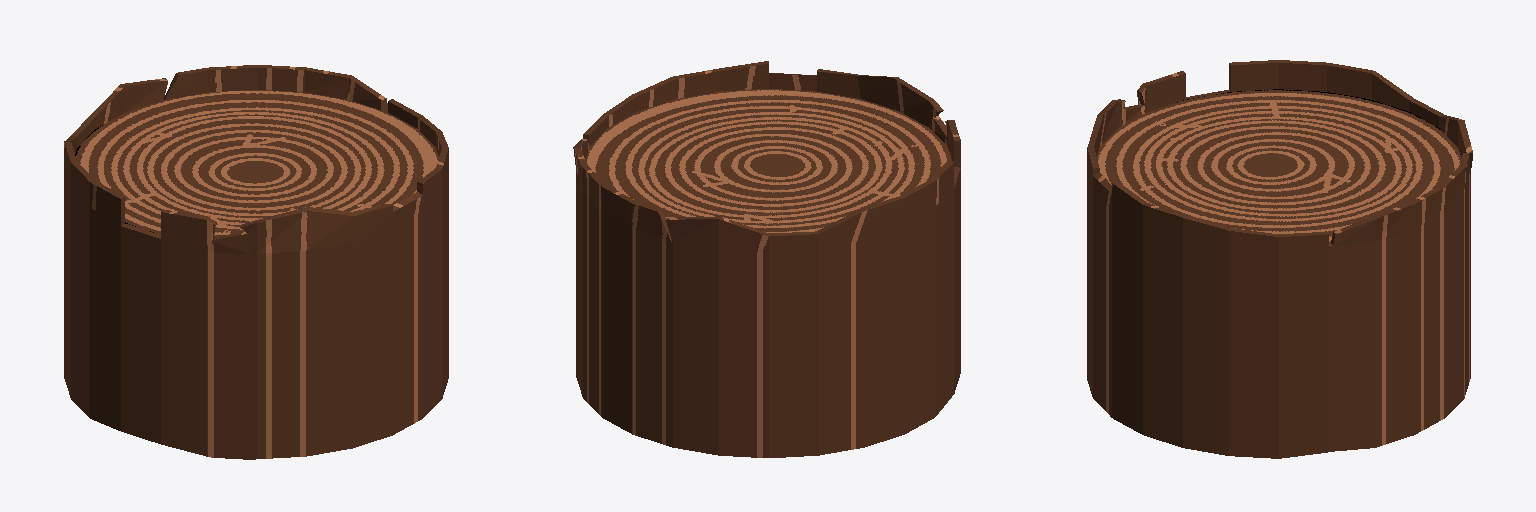
3 renders of one model, left to right at view 1: azimuth 30°, elevation 25°; view 2: azimuth 150°, elevation 25°; view 3: azimuth 270°, elevation 25°, orthographic.
Parts seen in each view (by area): view 1: BaseTree; view 2: BaseTree; view 3: BaseTree.
Part boxes in pixels (bbox=[...]): BaseTree: bbox=[64, 65, 448, 459]; BaseTree: bbox=[573, 61, 960, 457]; BaseTree: bbox=[1087, 60, 1472, 458].
Size of the model in its own units: 33.81 by 23.78 by 34.03.
Materials: 1 (1 with a texture image).